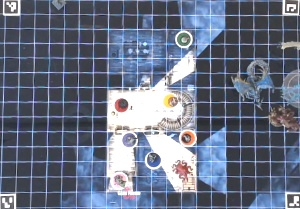blue: (143, 148, 165, 170)
green: (173, 28, 193, 49)
orange: (177, 126, 197, 147)
pink: (109, 96, 133, 113), (109, 170, 131, 188)
violet: (119, 129, 139, 148)
yellow: (161, 91, 179, 110)
